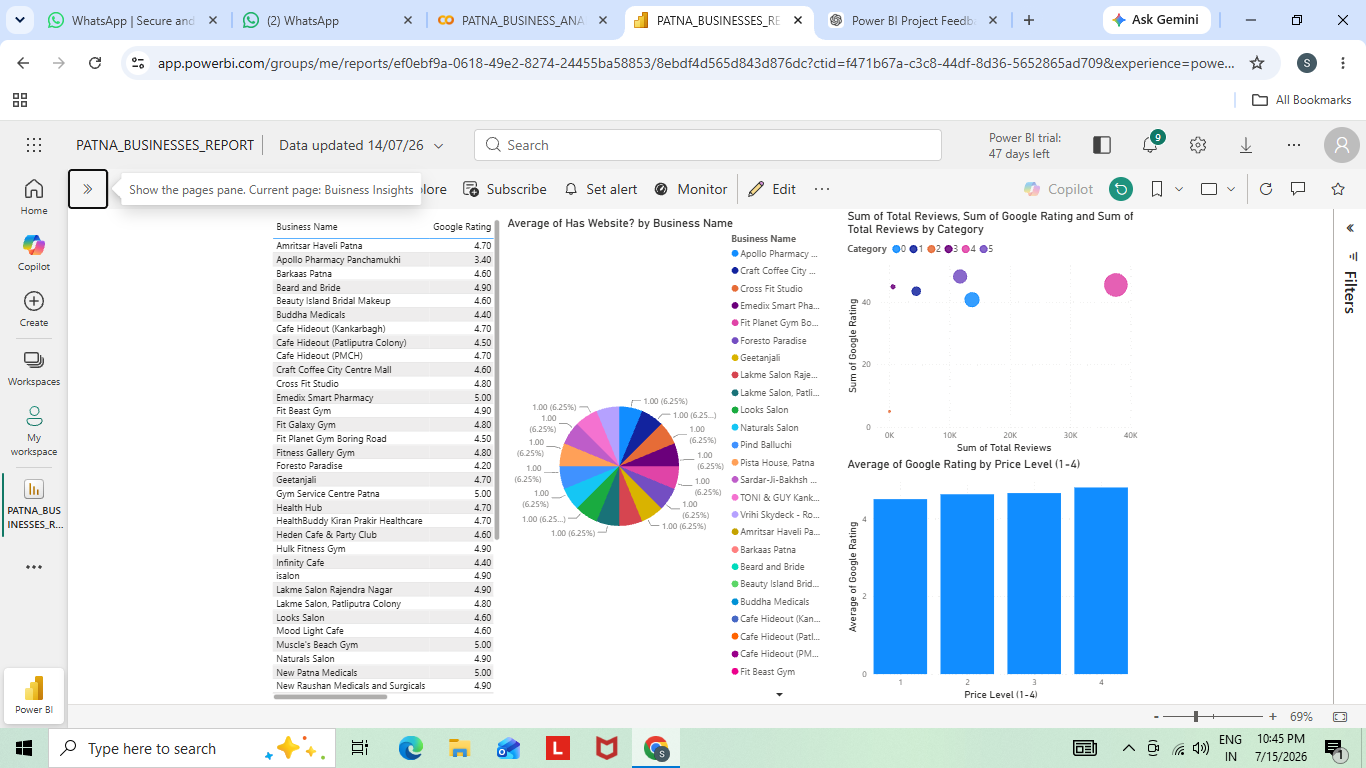

This screenshot's page, from the dashboard's own definition file:
{"tool":"powerbi","page":{"name":"Buisness Insights","canvas":[1280,720],"ordinal":1},"visuals":[{"type":"scatterChart","fields":{"Series":["Business_Predictions (1).Category"],"Size":["Sum(Business_Predictions (1).Total Reviews)"],"X":["Sum(Business_Predictions (1).Total Reviews)"],"Y":["Sum(Business_Predictions (1).Google Rating)"]},"box":[848.1,0,431.9,360.5],"z":0},{"type":"tableEx","fields":{"Values":["Business_Predictions (1).Business Name","Business_Predictions (1).Google Rating","Business_Predictions (1).Total Reviews","Business_Predictions (1).Has Website?","Business_Predictions (1).Predicted Growth"]},"box":[12.2,10.4,341.3,708.8],"z":1},{"type":"pieChart","fields":{"Category":["Business_Predictions (1).Business Name"],"Y":["Avg(Business_Predictions (1).Has Website?)"]},"box":[353.5,10.4,475.4,708.8],"z":2},{"type":"columnChart","fields":{"Category":["Business_Predictions (1).Price Level (1-4)"],"Y":["Avg(Business_Predictions (1).Google Rating)"]},"box":[848.1,360.5,418,358.7],"z":3}]}

Visuals, with their boxes on the page's 1280x720 design canvas (x1, y1, x2, y2). These are canvas units, not pixel positions in the 1366x768 screenshot, which may show the page scaled, cropped or inside an application window:
scatterChart - Business_Predictions (1).Category x Sum(Business_Predictions (1).Total Reviews): locate(848, 0, 1280, 360)
tableEx - Business_Predictions (1).Business Name x Business_Predictions (1).Google Rating: locate(12, 10, 354, 719)
pieChart - Business_Predictions (1).Business Name x Avg(Business_Predictions (1).Has Website?): locate(354, 10, 829, 719)
columnChart - Business_Predictions (1).Price Level (1-4) x Avg(Business_Predictions (1).Google Rating): locate(848, 360, 1266, 719)
